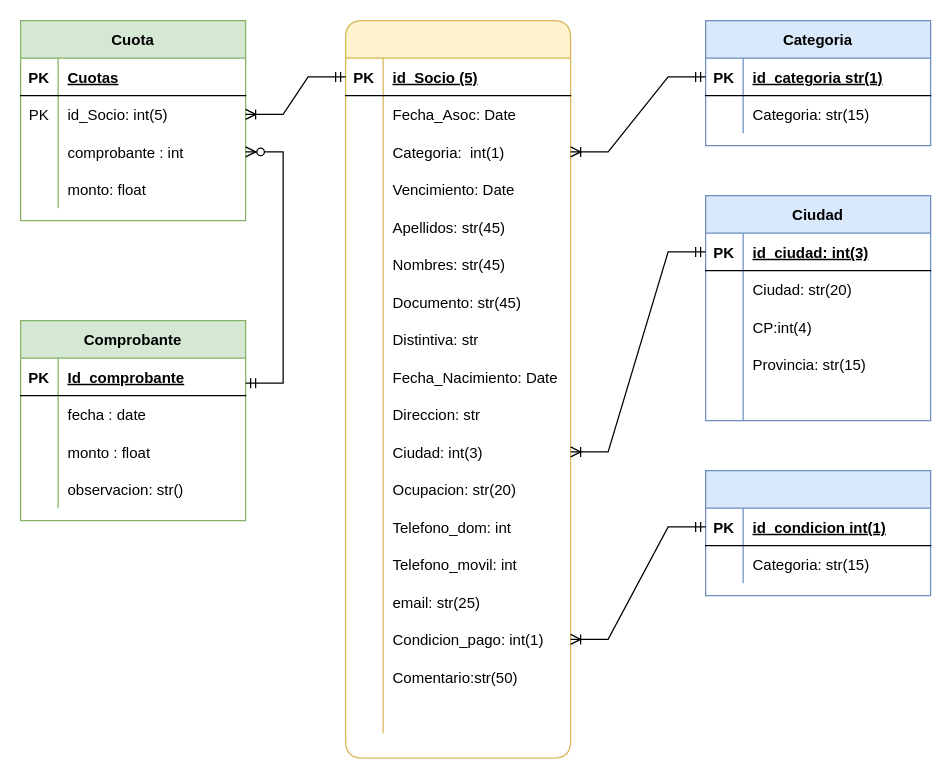
This 951x779 diagram has some shape labels left out. Here are the shapes that lost their labels. From the top down, the box of each, then its label:
(344, 19, 571, 758): Socios
(704, 469, 931, 596): CondicionPago
